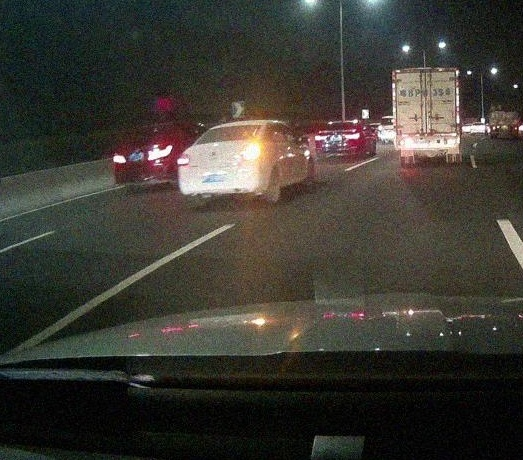L_light: (177, 156, 191, 165), (315, 135, 327, 140), (399, 137, 406, 145)
R_light: (237, 149, 260, 159), (345, 133, 360, 140), (447, 137, 455, 144)
T_light: (234, 123, 248, 127), (419, 70, 432, 73), (340, 121, 348, 123)
night-no: (392, 67, 461, 167), (315, 120, 361, 164)
night-right: (177, 120, 271, 206)
